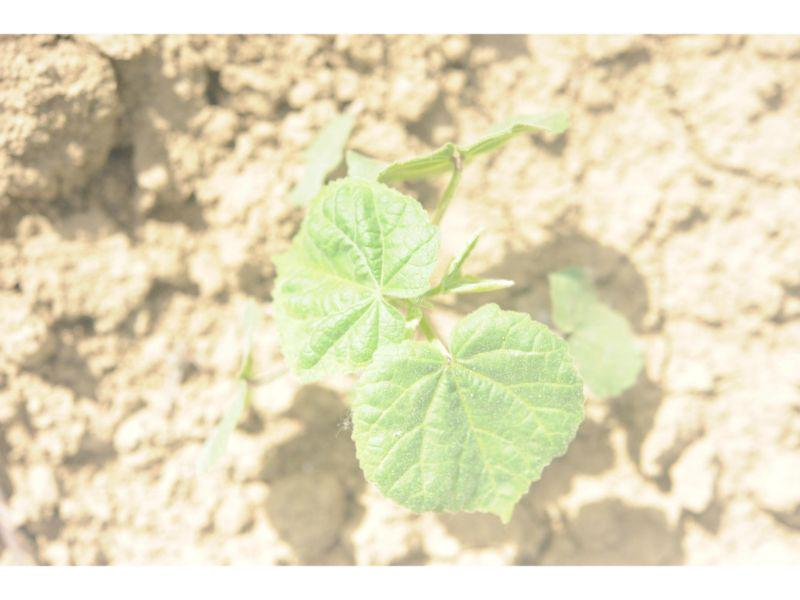velvet: (274, 108, 643, 512)
